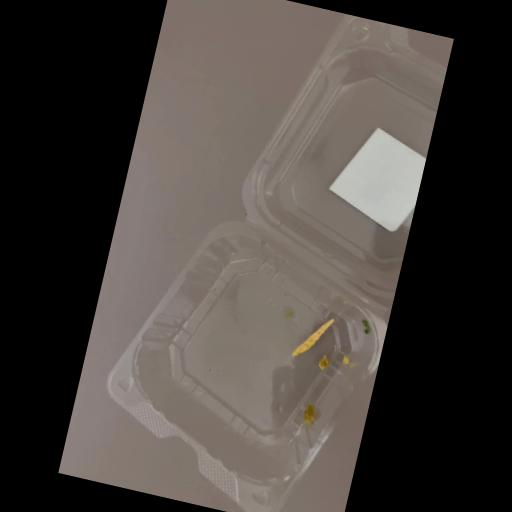small_plastic_container: (83, 0, 453, 512)
